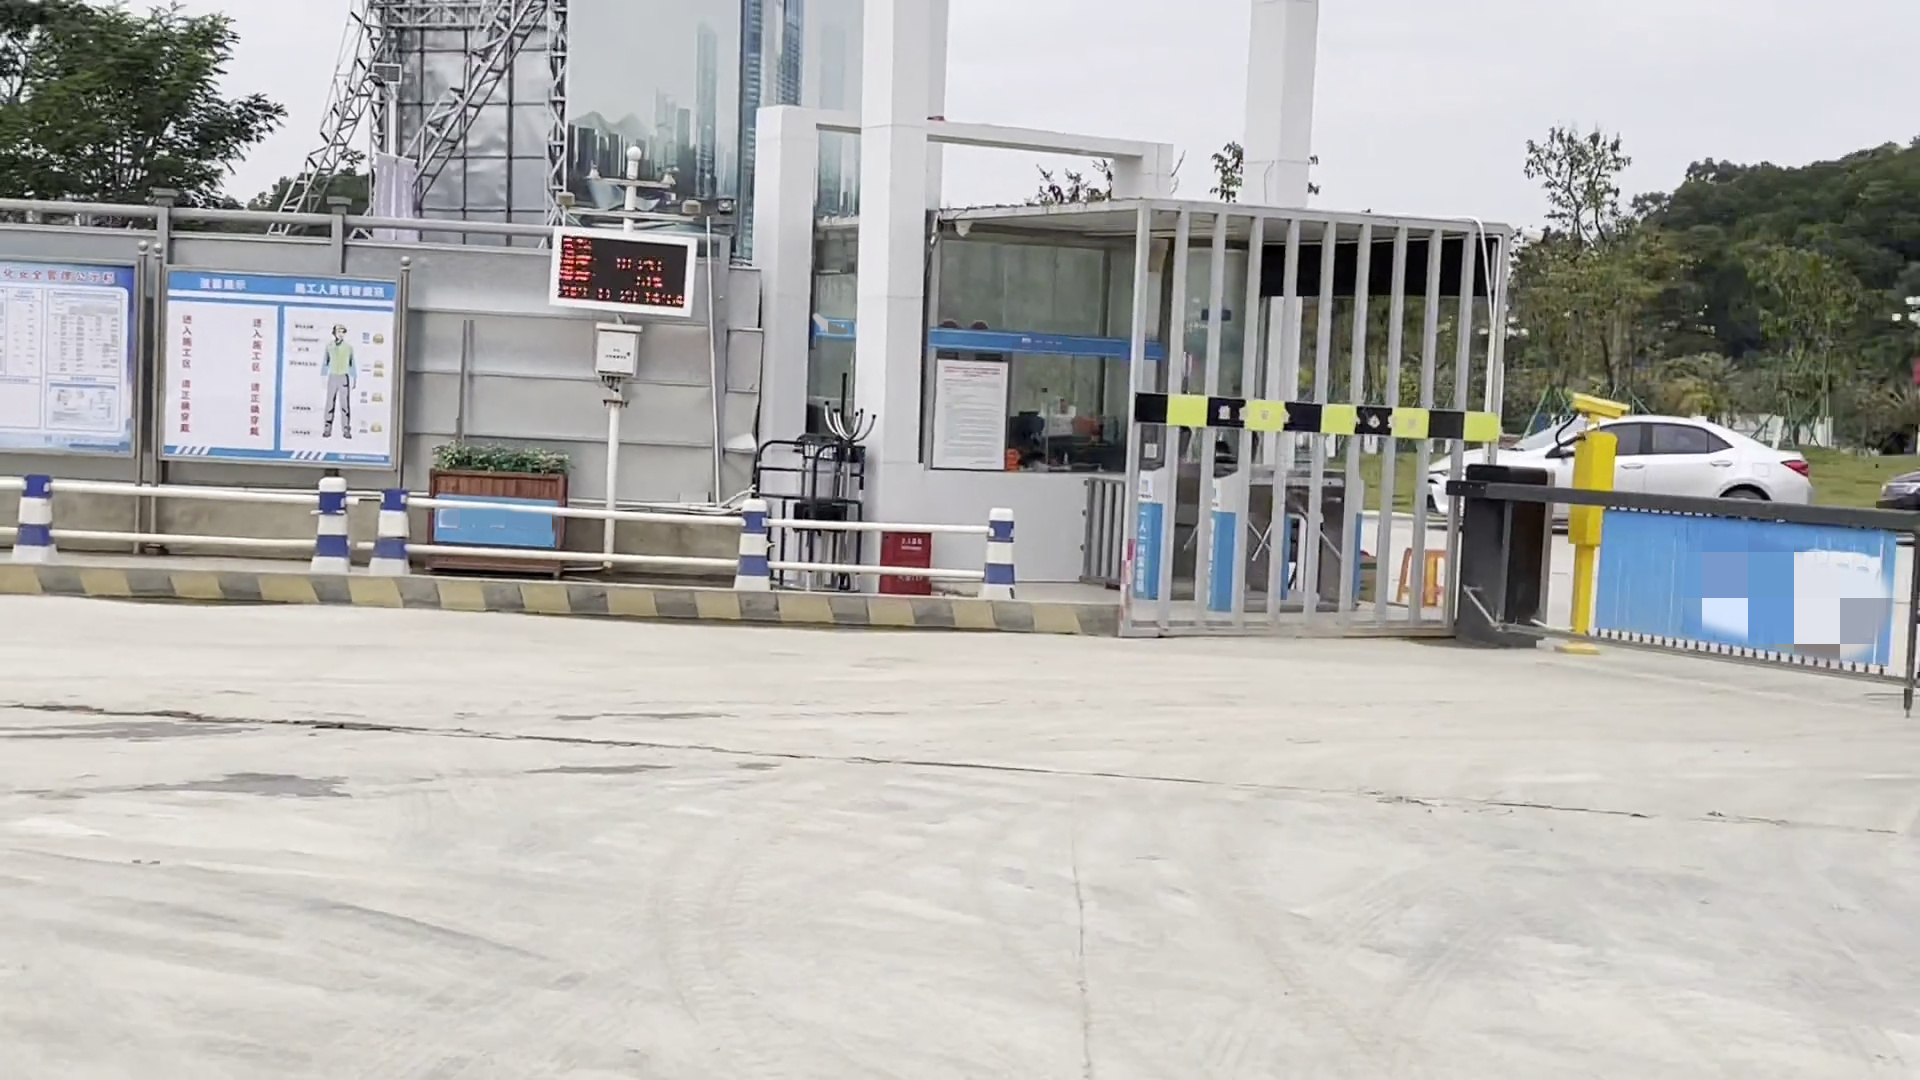slogan: (164, 266, 392, 471), (4, 262, 135, 465)
